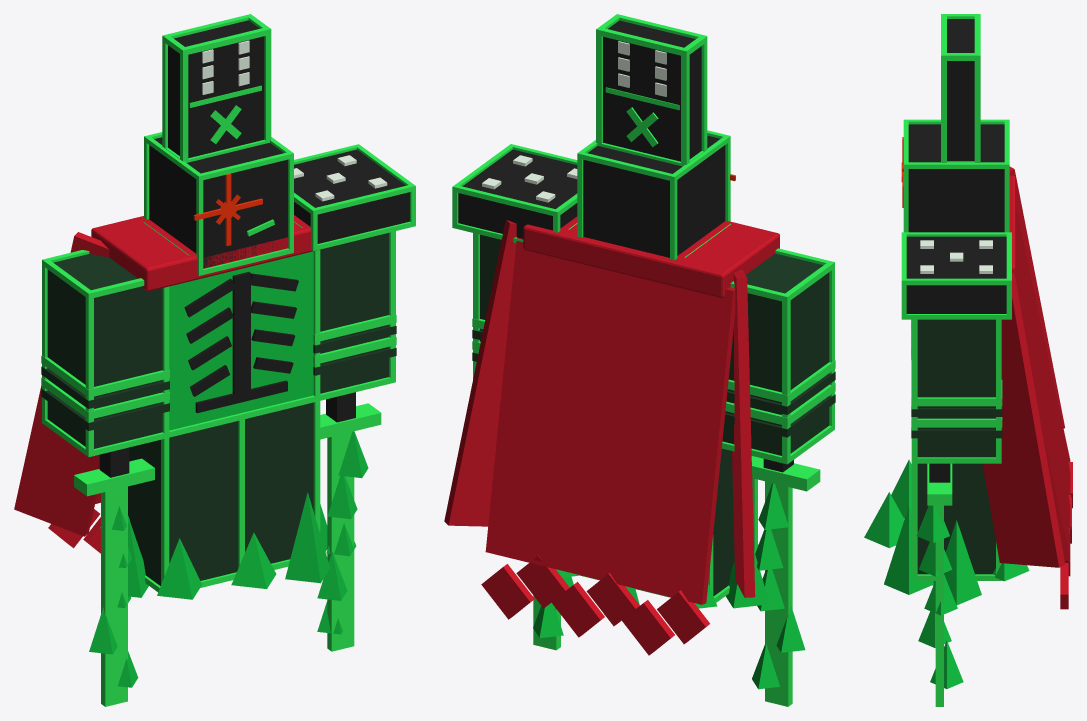
File: jefe_1x1x1x1.glb
3 views of the same model, side by side, from view 1: azimuth 30°, elevation 25°; view 2: azimuth 150°, elevation 25°; view 3: azimuth 270°, elevation 25° (orthographic). The views are drawn at different scales.
Parts seen in each view (by area): view 1: Torso, RightArm, LeftArm, Head, RightLeg, LeftLeg; view 2: Torso, Head, RightArm, LeftArm, RightLeg; view 3: LeftArm, Torso, Head, LeftLeg.
Part boxes in pixels (<box>): Torso: <box>14,215,335,599</box>; RightArm: <box>41,250,169,706</box>; LeftArm: <box>294,144,415,651</box>; Head: <box>144,14,293,275</box>; RightLeg: <box>128,414,244,596</box>; LeftLeg: <box>245,401,320,569</box>; Torso: <box>444,216,779,655</box>; Head: <box>577,14,735,260</box>; RightArm: <box>721,248,835,706</box>; LeftArm: <box>452,144,577,650</box>; RightLeg: <box>635,448,757,602</box>; LeftArm: <box>901,232,1011,706</box>; Torso: <box>864,166,1072,609</box>; Head: <box>901,14,1009,232</box>; LeftLeg: <box>911,463,1001,580</box>.
Bounding box in the file's own units: 12.81 × 24.11 × 7.44.
Materials: 1 (1 with a texture image).
